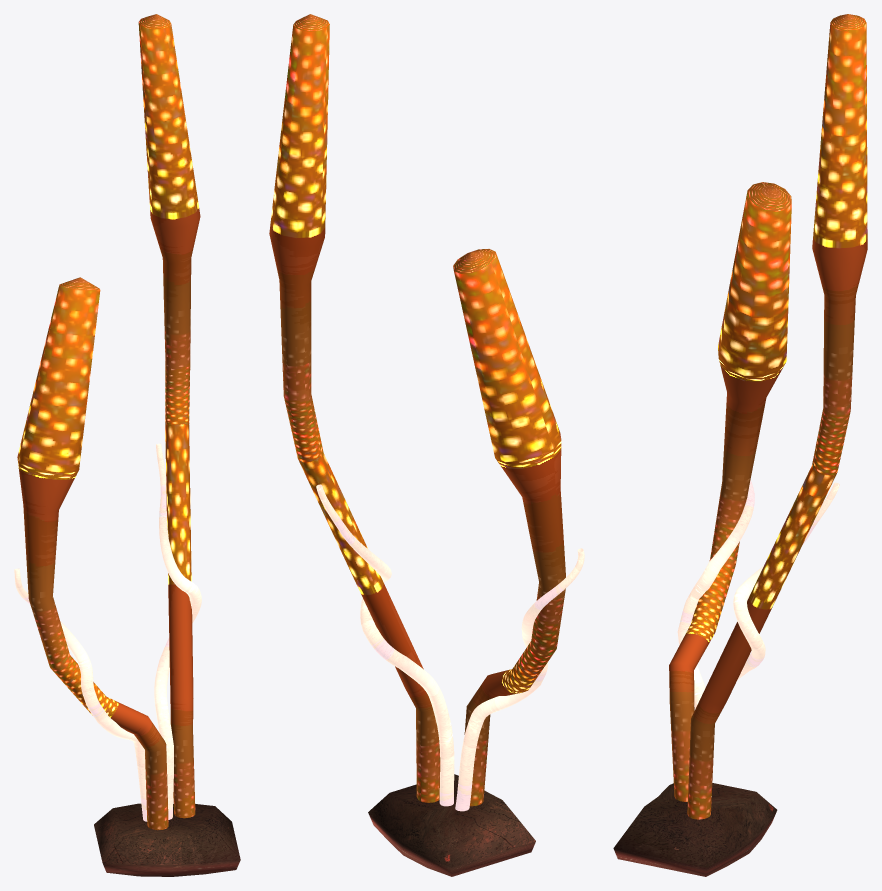
File: kord.glb
The picture shows the model from 3 angles, left to right: view 1: azimuth 30°, elevation 25°; view 2: azimuth 150°, elevation 25°; view 3: azimuth 270°, elevation 25°; orthographic projection. The views are drawn at different scales.
Visible parts, largest first — view 1: Cube.005; view 2: Cube.005; view 3: Cube.005.
Boxes of the visible parts, left/top/right/bottom form: Cube.005: left=14, top=14, right=240, bottom=876; Cube.005: left=269, top=14, right=584, bottom=876; Cube.005: left=613, top=14, right=867, bottom=876.
Size of the model in its own units: 1.22 by 3.94 by 1.05.
Materials: 3 (3 with a texture image).
